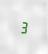three: (19, 19, 26, 34)
